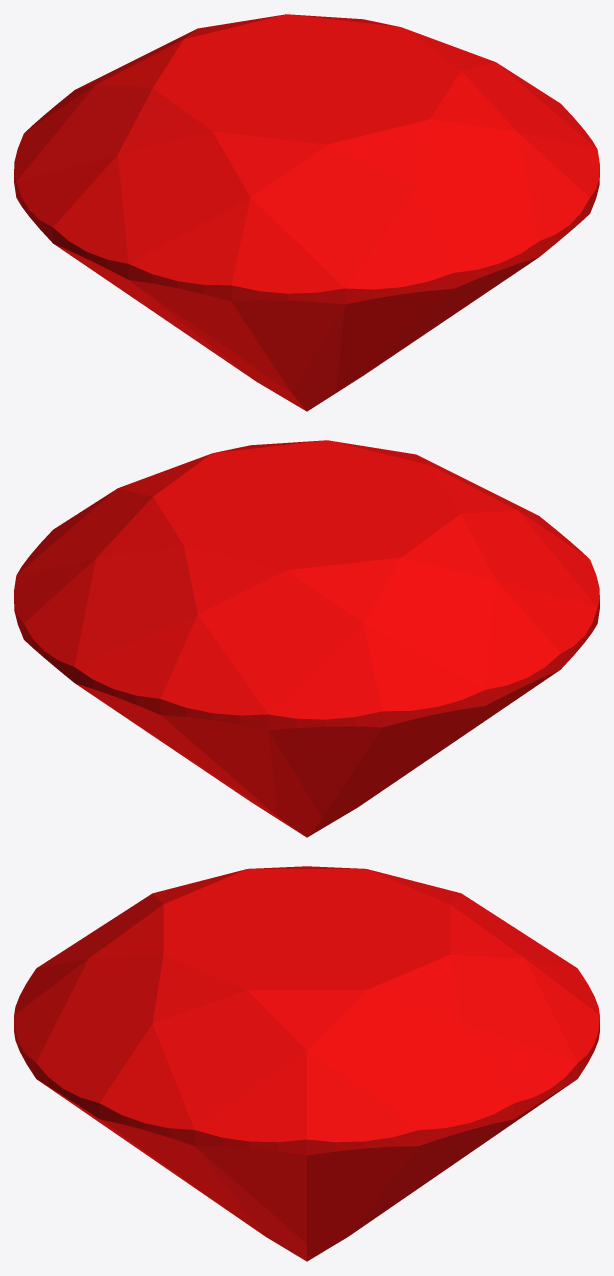
Rendered from RoundAlmandineGarnet.glb.
3 renders of one model, top to bottom at view 1: azimuth 30°, elevation 25°; view 2: azimuth 150°, elevation 25°; view 3: azimuth 270°, elevation 25°, orthographic.
Visible parts, largest first — view 1: new twist dia for 3d model; view 2: new twist dia for 3d model; view 3: new twist dia for 3d model.
Boxes of the visible parts, left/top/right/bottom form: new twist dia for 3d model: left=14, top=14, right=599, bottom=411; new twist dia for 3d model: left=14, top=440, right=599, bottom=837; new twist dia for 3d model: left=14, top=866, right=599, bottom=1261.
Bounding box in the file's own units: 7.45 × 4.66 × 7.45.
